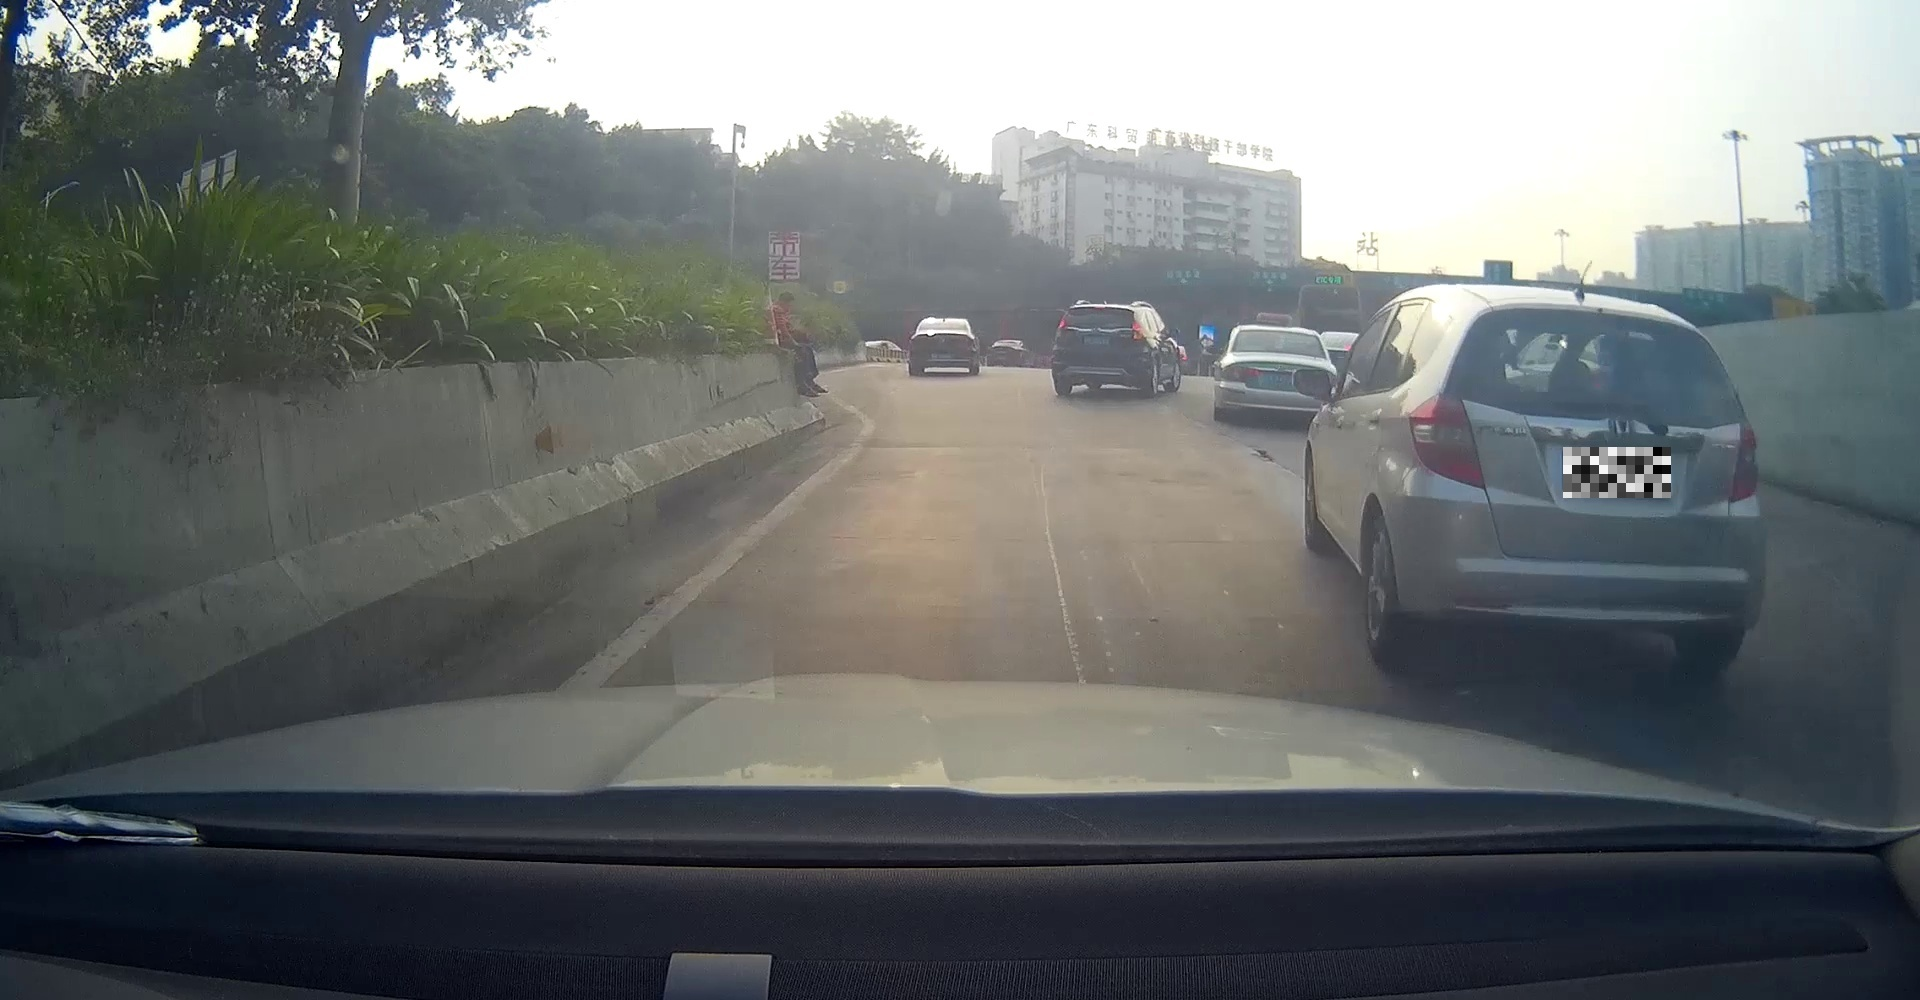L_light: (1408, 393, 1486, 489), (1057, 319, 1065, 327)
R_light: (1730, 419, 1759, 504), (1131, 322, 1142, 331)
T_light: (1557, 400, 1650, 416), (1095, 305, 1105, 308)
day-brake: (1049, 303, 1149, 395)
day-no: (1399, 298, 1768, 673)
plate_1: (1563, 447, 1671, 497)
